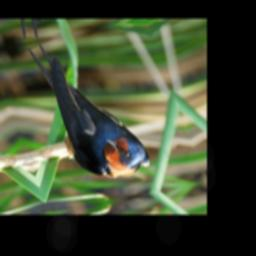Swallow: (25, 30, 157, 188)
